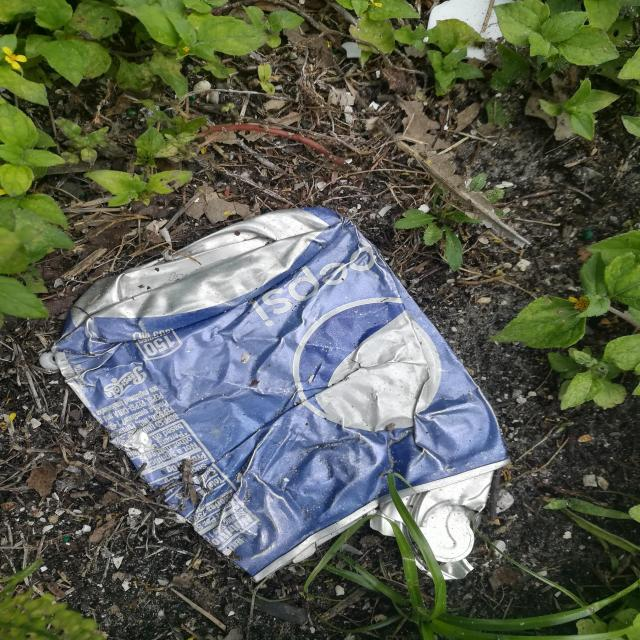litter: (49, 205, 511, 583)
